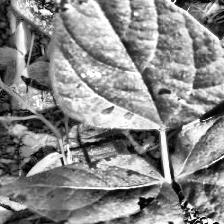ALS: (43, 0, 224, 131), (0, 151, 184, 224), (176, 82, 224, 224)
